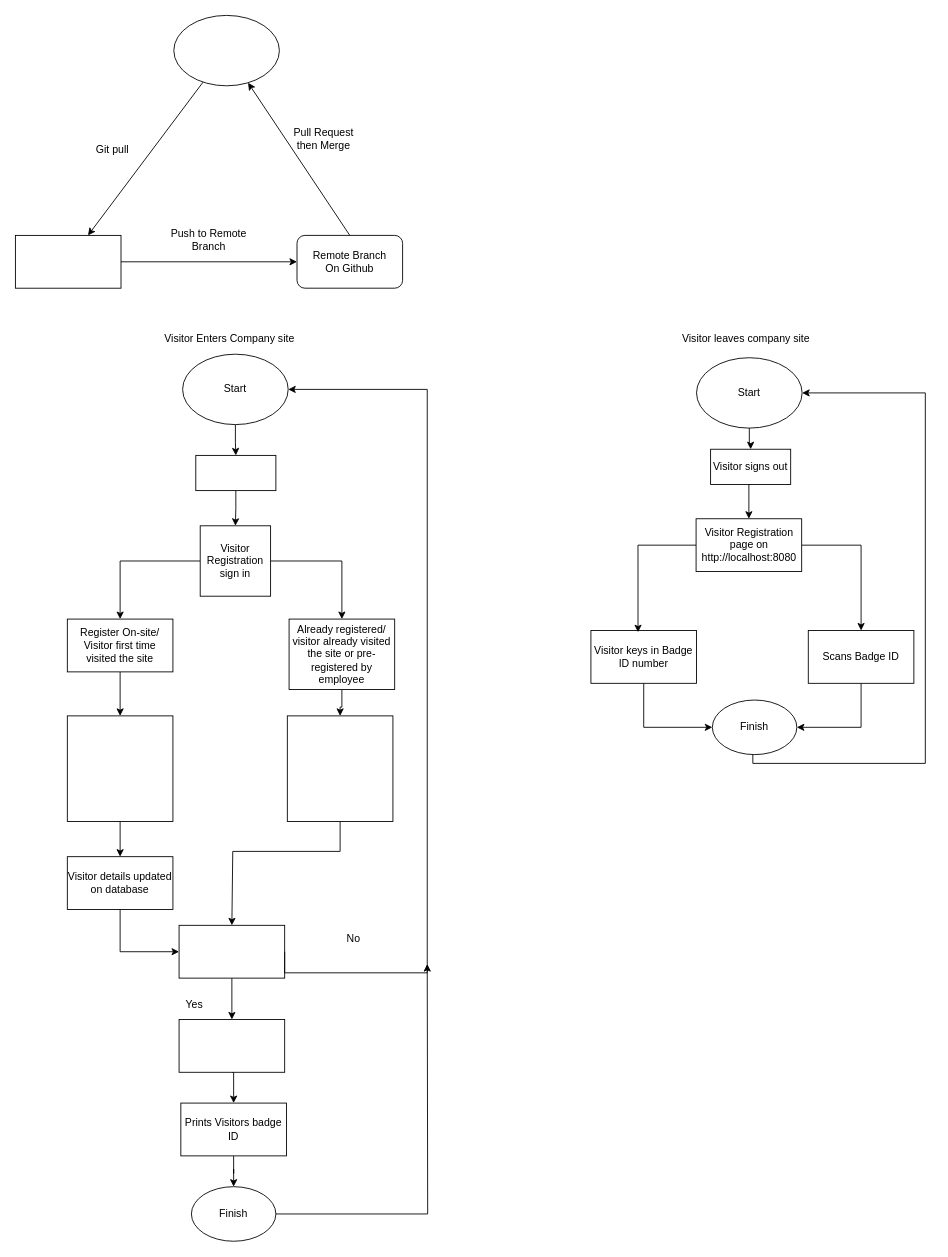
Some shapes in this 948 by 1257 pixel diagram are drawn without their labels. Each missing label, with the centre of its shape:
"Local Branch Folder on Computer" goes at pixel 68 261.
"Remote Repo Main GitHub" goes at pixel 226 50.
"Visitor agrees on company site policy" goes at pixel 231 951.
"Visitor arrives" goes at pixel 235 473.
"Visitor enter details http://localhost:8080" goes at pixel 119 768.
"Visitor enter visit code on http://localhost:8080" goes at pixel 339 768.
"VMS sends email notification to staff" goes at pixel 231 1045.
